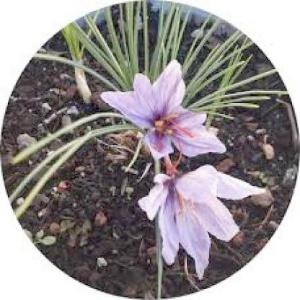Saffron: (139, 165, 266, 280), (101, 61, 226, 161)
